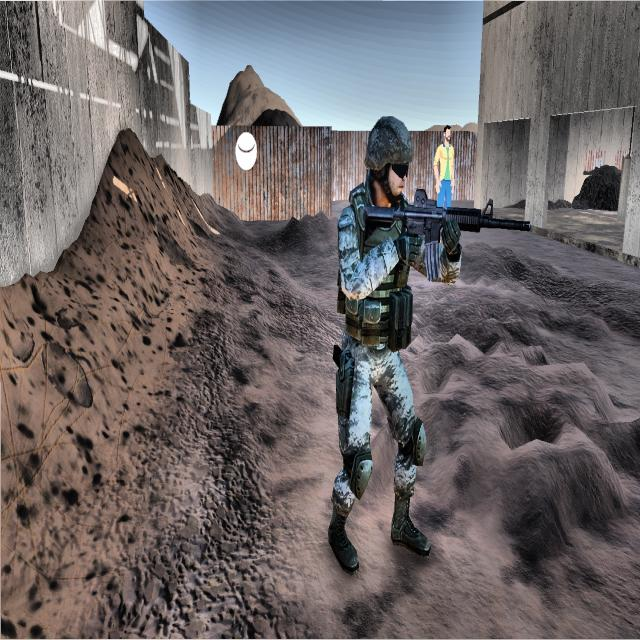bad: (318, 94, 440, 588)
good: (433, 115, 458, 217)
